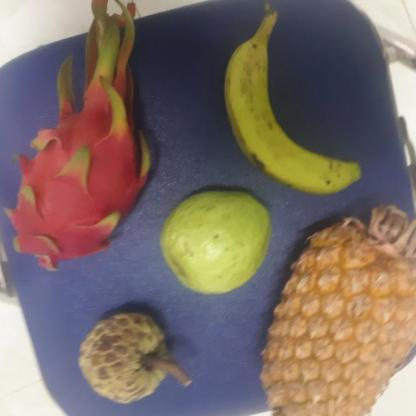annona: (75, 308, 172, 404)
banana: (219, 38, 361, 193)
guava: (154, 190, 270, 295)
pineapple: (258, 204, 416, 415)
pitaya: (2, 68, 156, 270)
